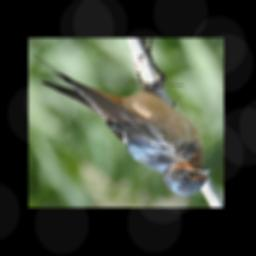Swallow: (30, 51, 213, 196)
